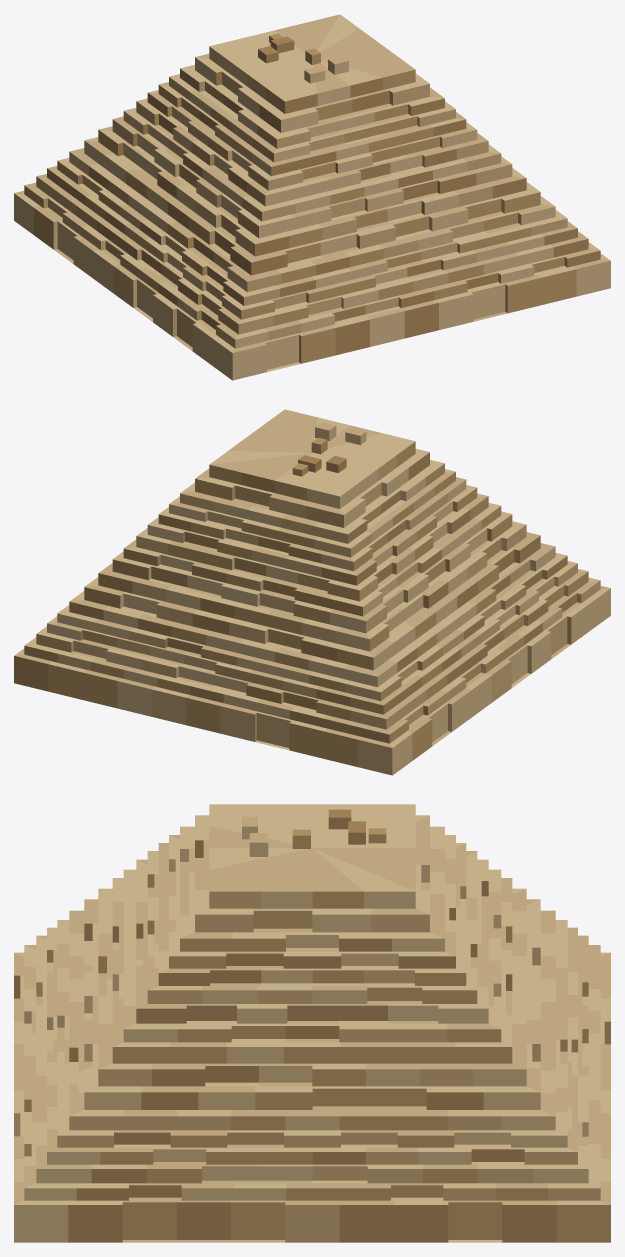
File: piramide-rainha.glb
The picture shows the model from 3 angles, top to bottom: view 1: azimuth 30°, elevation 25°; view 2: azimuth 150°, elevation 25°; view 3: azimuth 270°, elevation 25°; orthographic projection. The views are drawn at different scales.
Parts seen in each view (by area): view 1: Degraus, Topo; view 2: Degraus, Topo; view 3: Degraus, Topo.
Boxes of the visible parts, <box> form: Degraus: <box>14,14,610,380</box>; Topo: <box>258,33,348,83</box>; Degraus: <box>14,409,610,775</box>; Topo: <box>292,422,366,476</box>; Degraus: <box>14,804,610,1242</box>; Topo: <box>242,809,386,856</box>.
Bounding box in the file's own units: 44.35 × 23.19 × 44.35.
